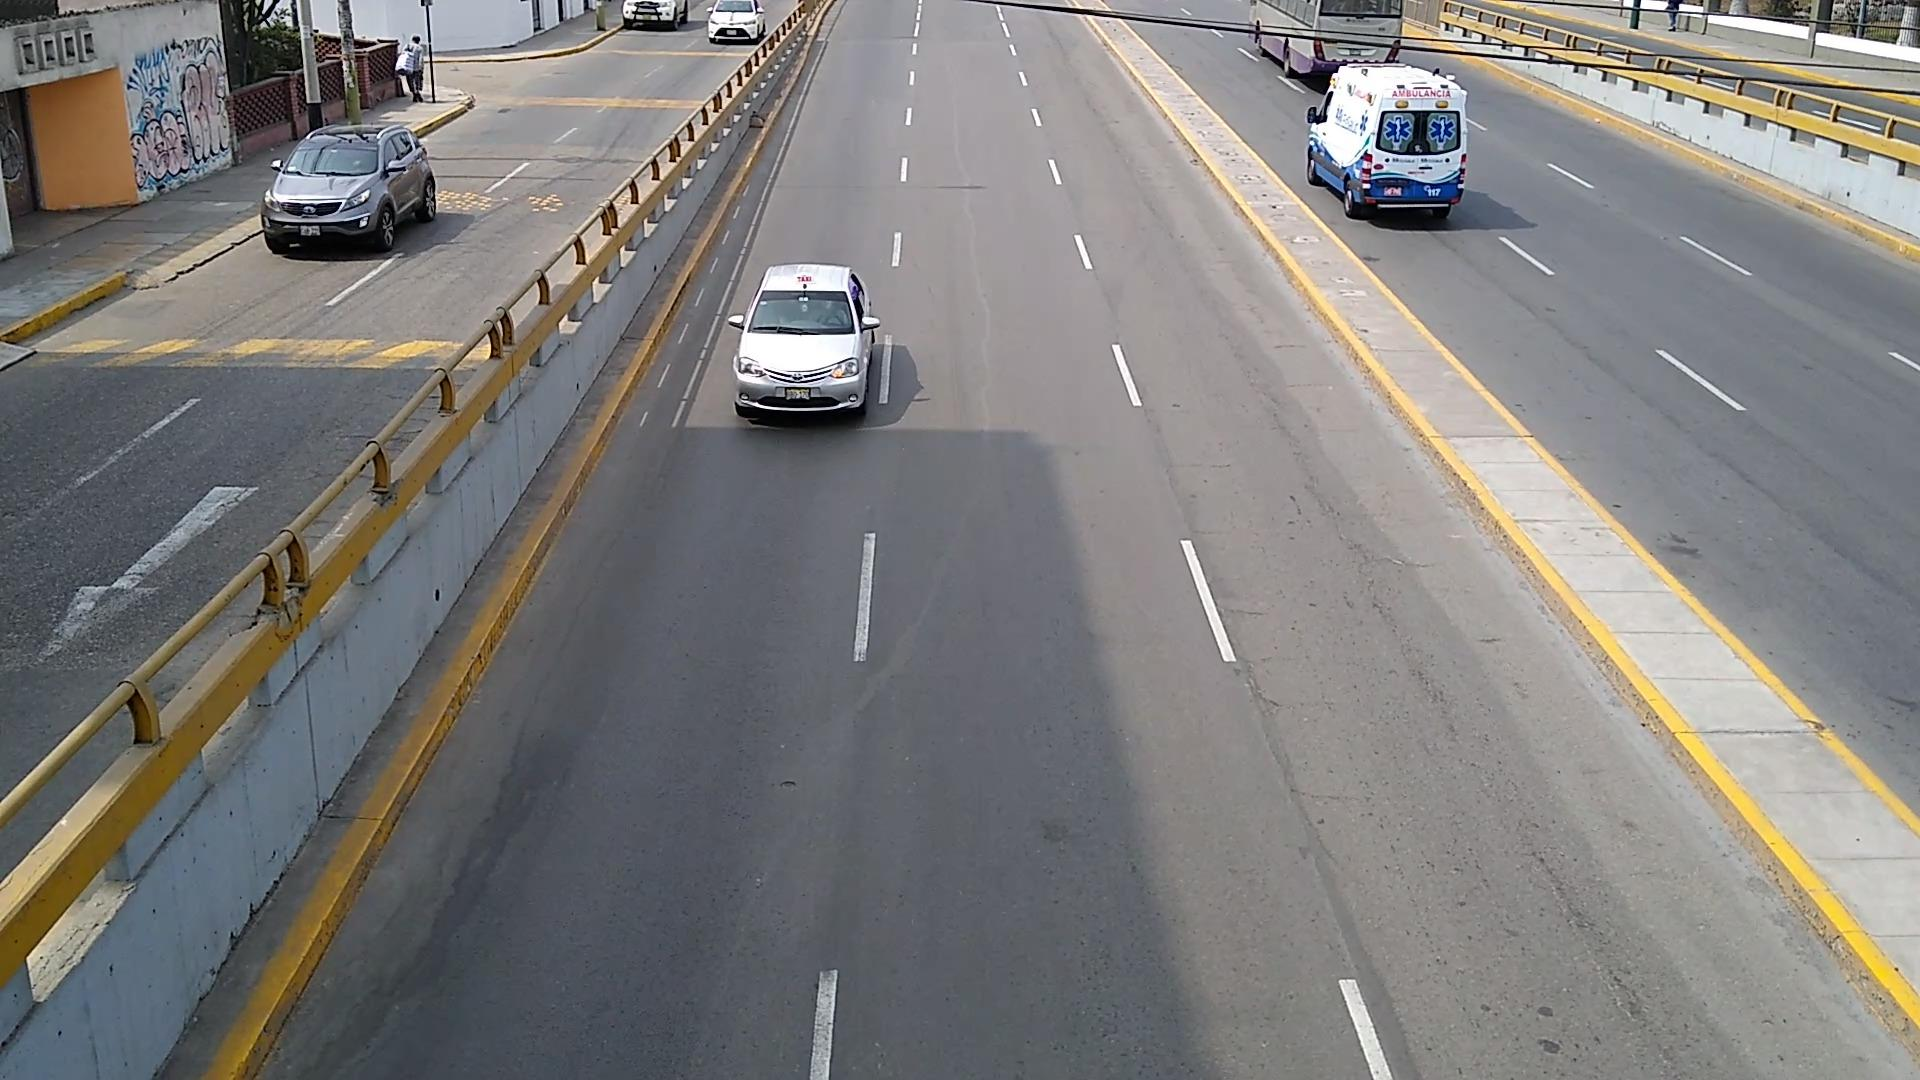car: (728, 262, 881, 419), (258, 124, 439, 255), (708, 0, 765, 41), (622, 0, 686, 30)
minivan: (1305, 63, 1470, 218), (1249, 0, 1403, 75)
